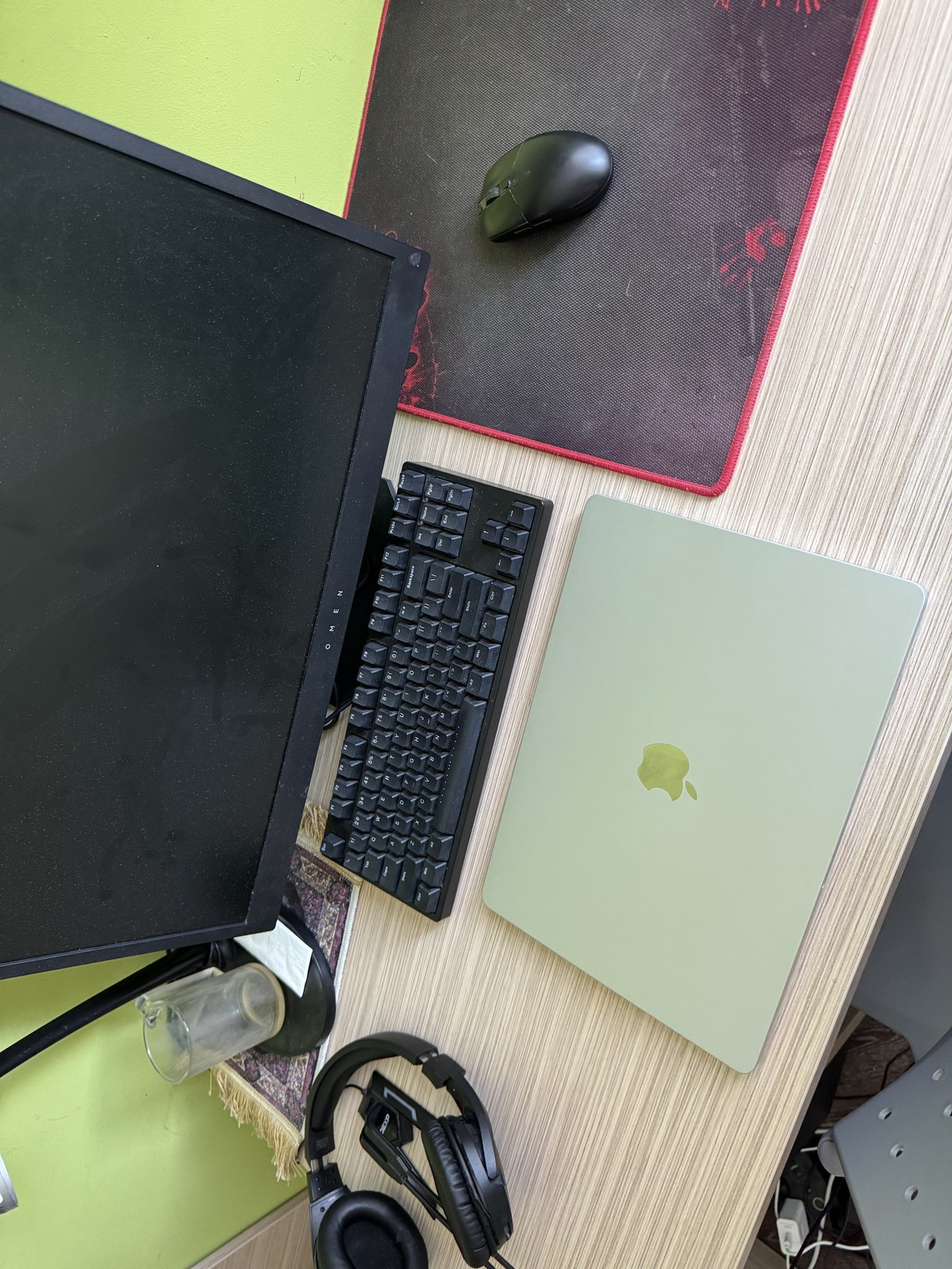laptop: (481, 492, 926, 1075)
